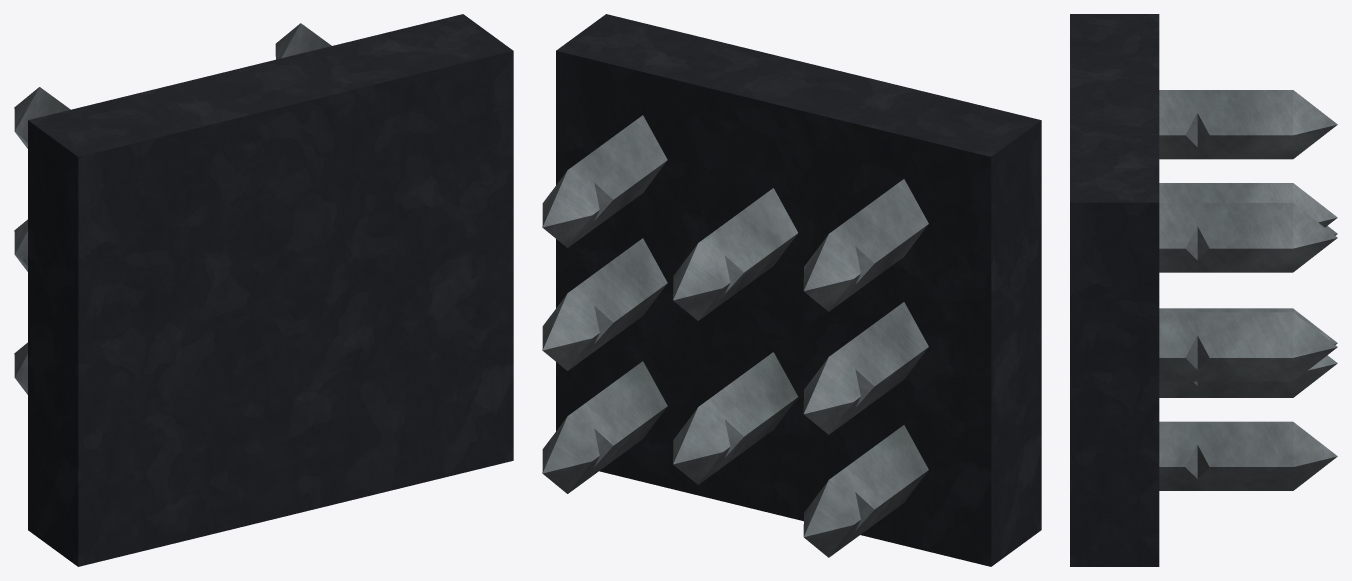
File: spiketrap.glb
The picture shows the model from 3 angles, left to right: view 1: azimuth 30°, elevation 25°; view 2: azimuth 150°, elevation 25°; view 3: azimuth 270°, elevation 25°; orthographic projection. The views are drawn at different scales.
Visible parts, largest first — view 1: block, blade_broken (×2); view 2: block, blade_broken (×8); view 3: blade_broken (×7), block.
Part boxes in pixels (box(x1,y1,x2,y2)): block: box(28, 14, 513, 566); blade_broken (×2): box(14, 23, 331, 148); block: box(556, 14, 1041, 566); blade_broken (×8): box(542, 115, 928, 557); blade_broken (×7): box(1159, 90, 1337, 490); block: box(1070, 14, 1159, 566).
Bounding box in the file's own units: 1 × 0.9 × 0.6.
9 materials, 9 textured.
